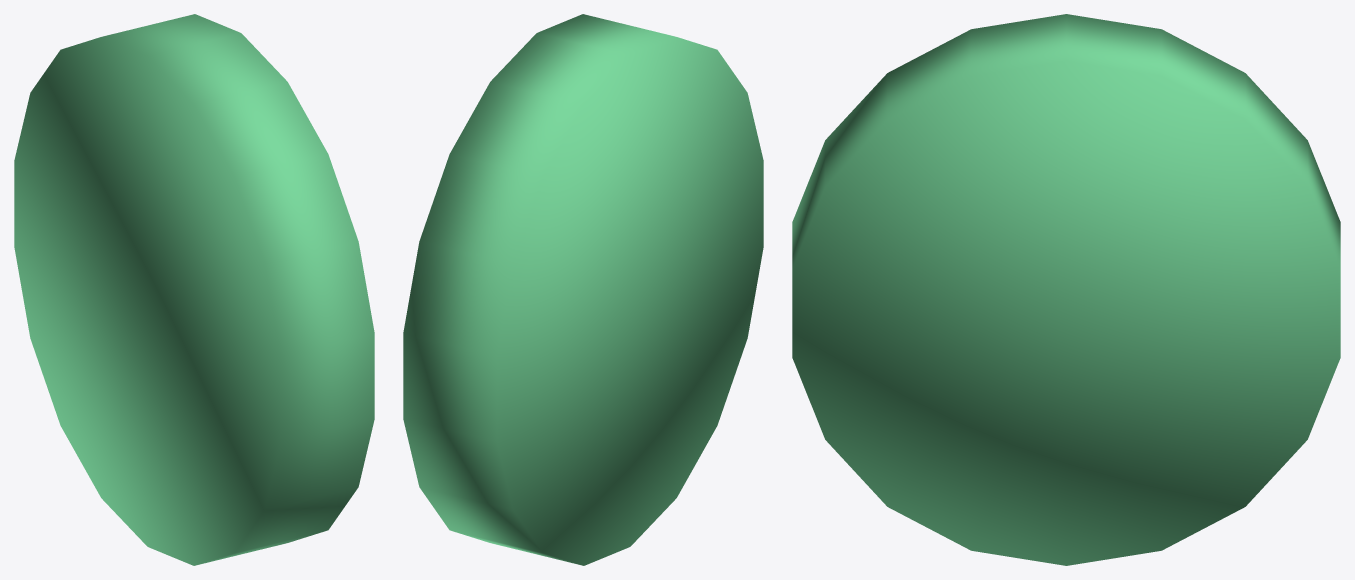
File: signal_green.glb
3 renders of one model, left to right at view 1: azimuth 30°, elevation 25°; view 2: azimuth 150°, elevation 25°; view 3: azimuth 270°, elevation 25°, orthographic. The views are drawn at different scales.
Visible parts, largest first — view 1: signal_green_0; view 2: signal_green_0; view 3: signal_green_0.
Part boxes in pixels (x1,y1,x2,y2): signal_green_0: [14, 14, 374, 565]; signal_green_0: [403, 14, 763, 565]; signal_green_0: [792, 14, 1340, 565].
Size of the model in its own units: 0.06 by 0.3 by 0.2954.
